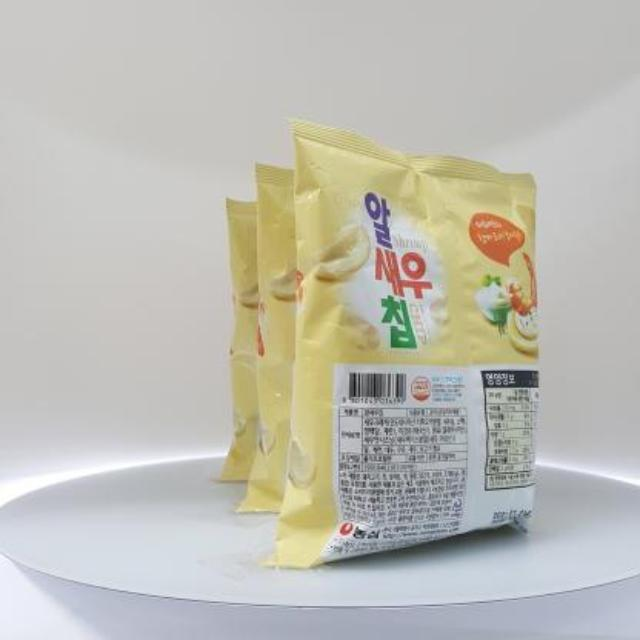snack_bag: (208, 94, 556, 580)
